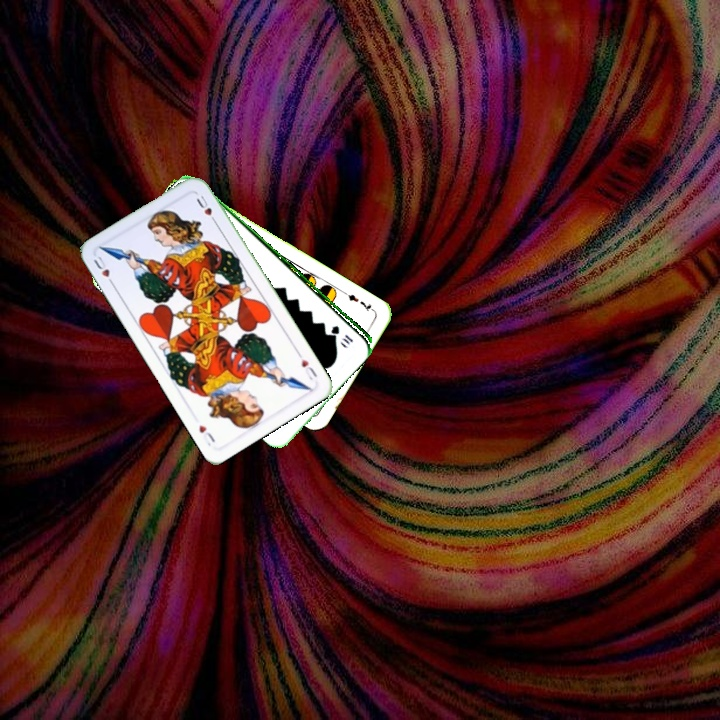E7: (340, 288, 377, 315)
G10: (328, 321, 356, 347)
HU: (89, 252, 117, 289), (293, 348, 320, 383)
